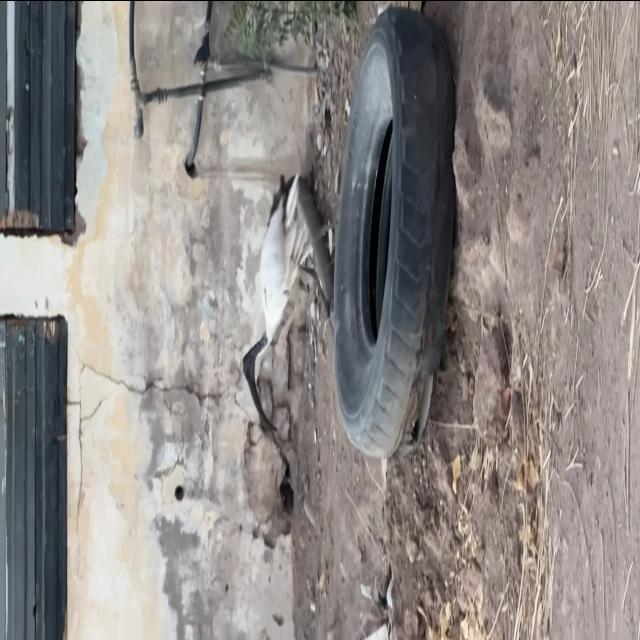Birds-Ibis: (240, 170, 342, 434)
